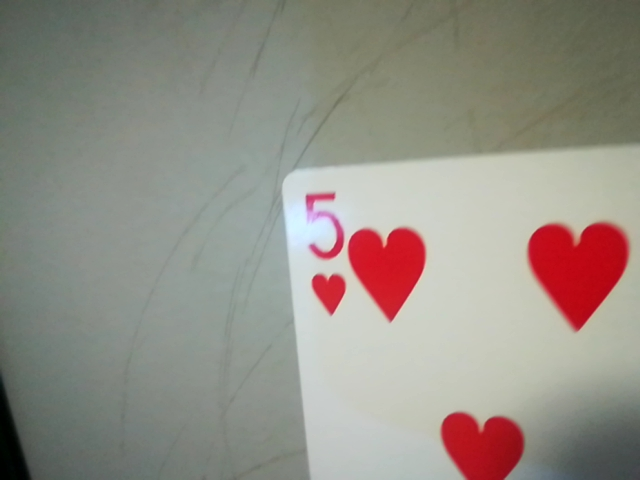hx 5: (291, 179, 348, 323)
